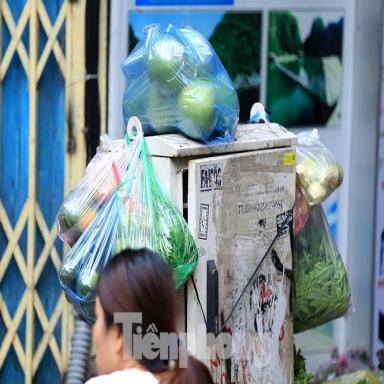plasticbag: (62, 106, 204, 342), (122, 21, 239, 145), (290, 141, 356, 333)
